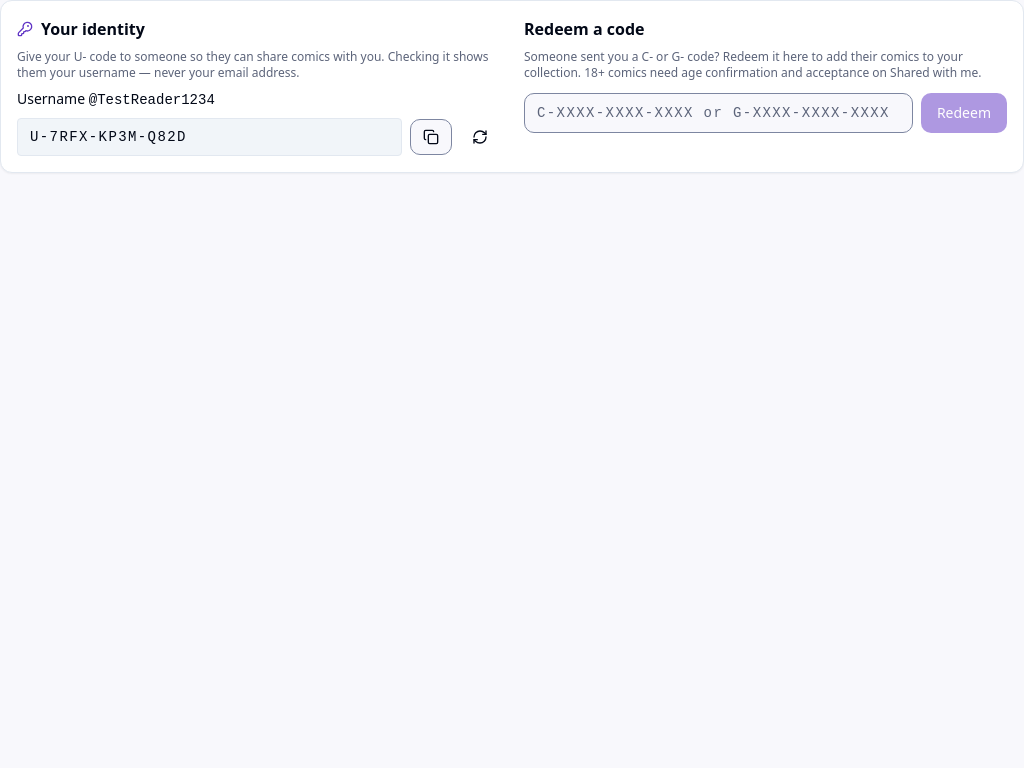
Test: SharingCodesCard › asks before replacing a code, because the old one breaks everywhere at once
expect the text "U-7RFX-KP3M-Q82D" is shown: met, box [17,118,402,156]
Click the button named "replace your user code": (480, 137) [460,119,500,155]
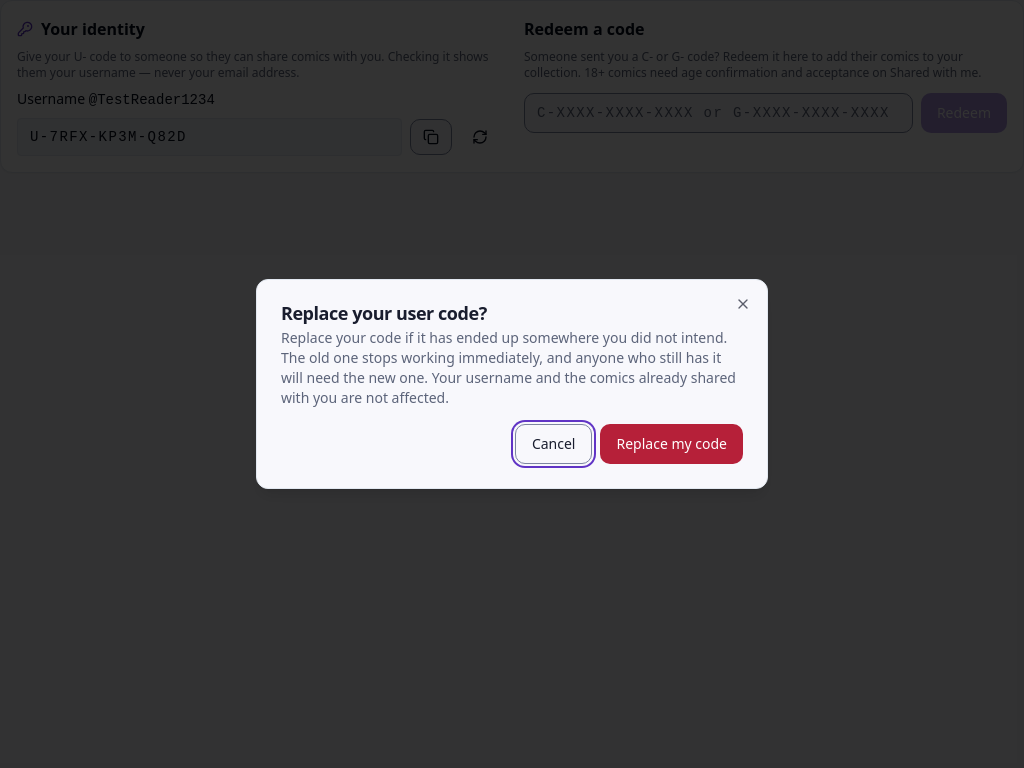
expect the text "The old one stops working immediately" is shown: met, box [281,328,736,407]
Click the button "Replace my code": (672, 444) [600,424,743,464]
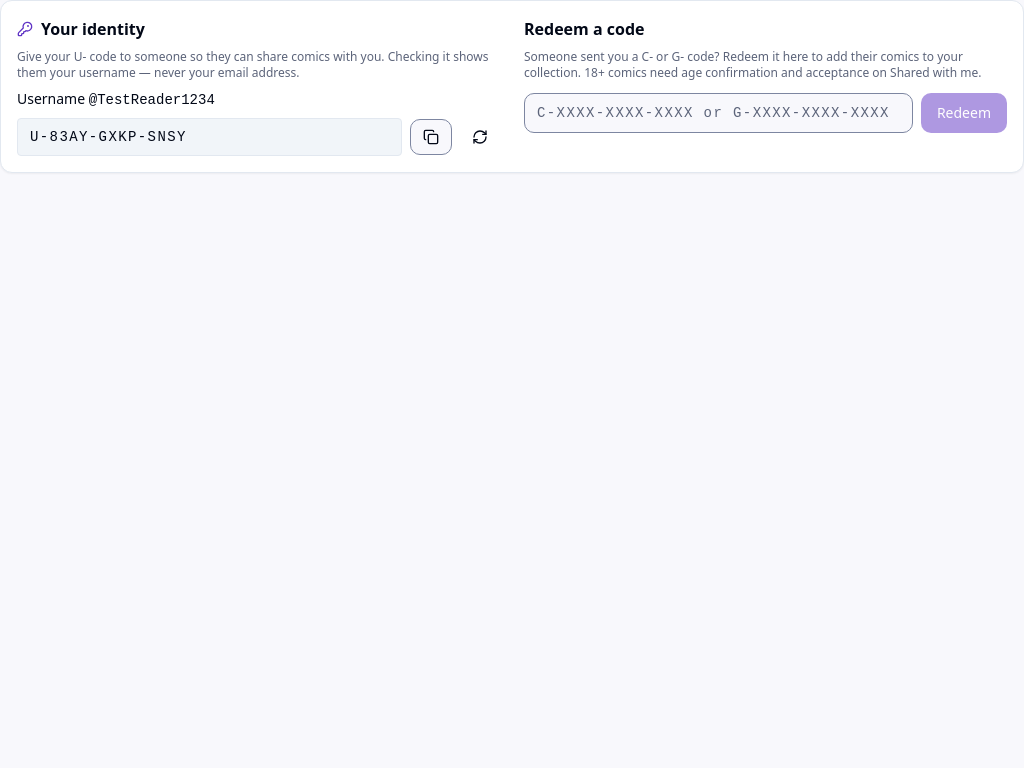
expect the text "U-83AY-GXKP-SNSY" is shown: met, box [17,118,402,156]
expect the text "U-7RFX-KP3M-Q82D" is gone: met
